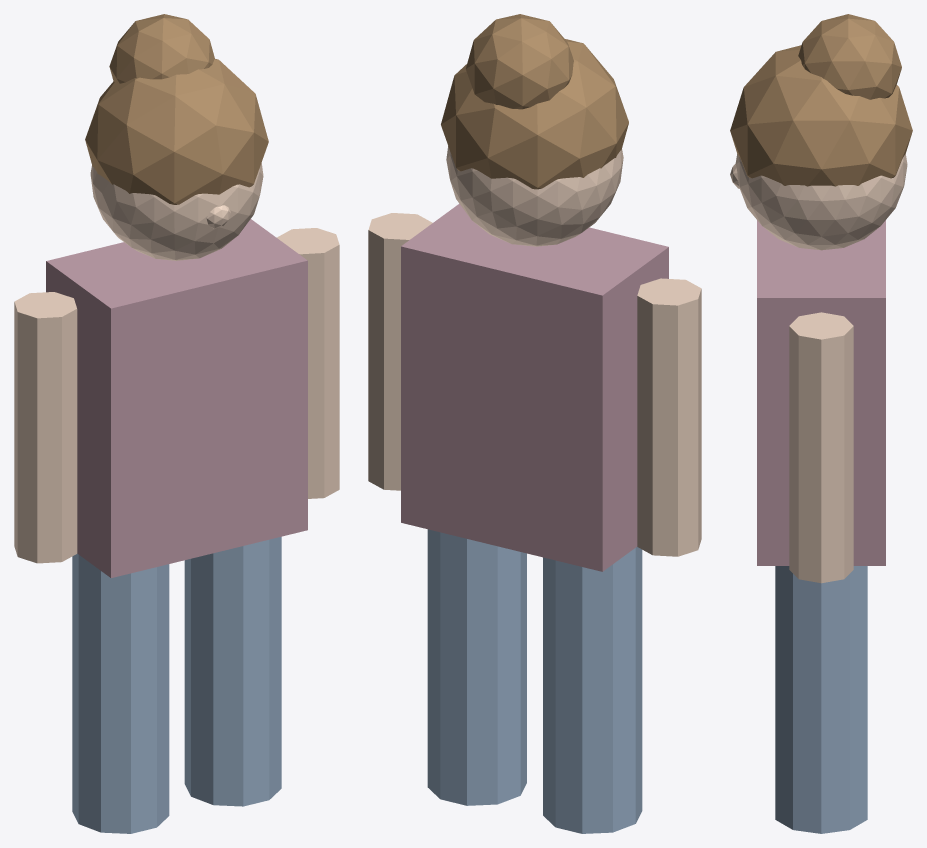
File: sim_adult_soft.glb
The picture shows the model from 3 angles, left to right: view 1: azimuth 30°, elevation 25°; view 2: azimuth 150°, elevation 25°; view 3: azimuth 270°, elevation 25°; orthographic projection. The views are drawn at different scales.
Parts seen in each view (by area): view 1: p002, p000, p001, p006, p003, p004, p005, p007; view 2: p002, p000, p001, p003, p006, p004, p005, p007; view 3: p002, p001, p006, p004, p005, p007.
Boxes of the visible parts, x1,y1,x2,y2 form: p002: (46,219,307,577); p000: (72,553,169,833); p001: (184,536,281,806); p006: (85,59,268,204); p003: (14,292,77,563); p004: (277,228,339,498); p005: (90,163,263,260); p007: (109,14,214,83); p002: (401,203,668,571); p000: (543,547,642,833); p001: (427,529,526,805); p003: (637,278,701,556); p006: (441,39,628,189); p004: (368,213,432,490); p005: (446,146,623,246); p007: (466,14,573,109); p002: (757,220,885,565); p001: (775,566,867,833); p006: (730,45,912,186); p004: (789,312,853,583); p005: (735,154,907,250); p007: (798,14,901,99).
Size of the model in its own units: 0.646 by 1.5 by 0.323.
